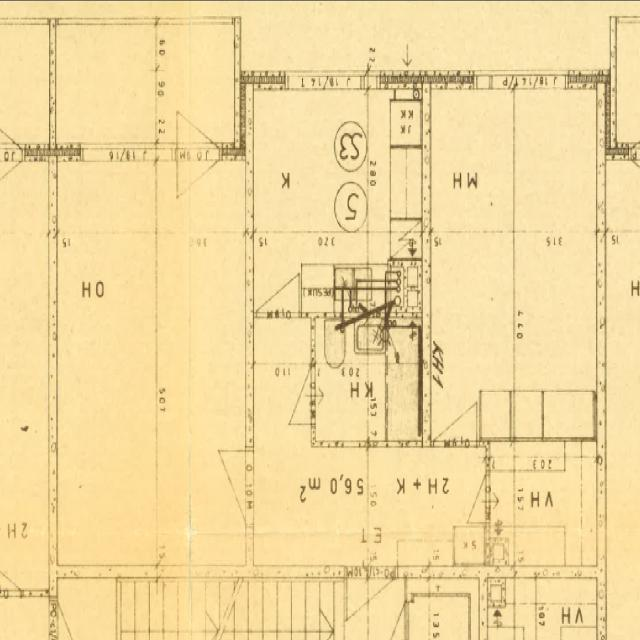door: (196, 450, 253, 525), (346, 565, 396, 640), (176, 143, 220, 225), (176, 77, 220, 159), (256, 245, 300, 317), (434, 376, 476, 446), (272, 363, 316, 423), (454, 474, 489, 522)
